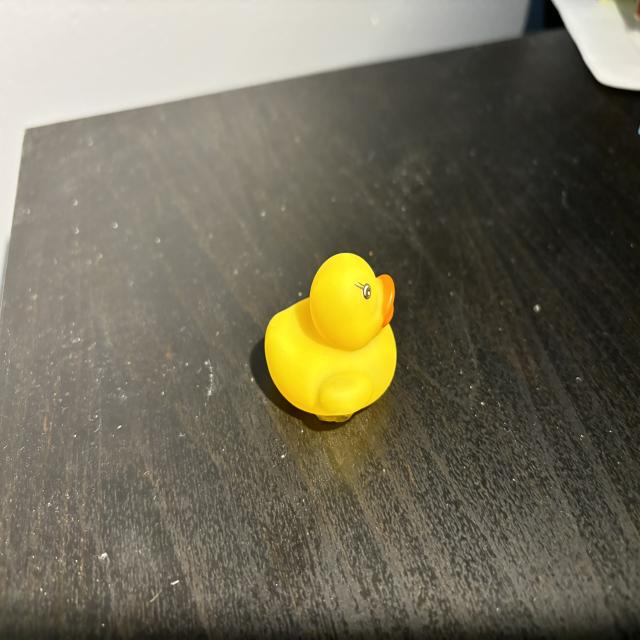duck_regular: (265, 252, 399, 422)
